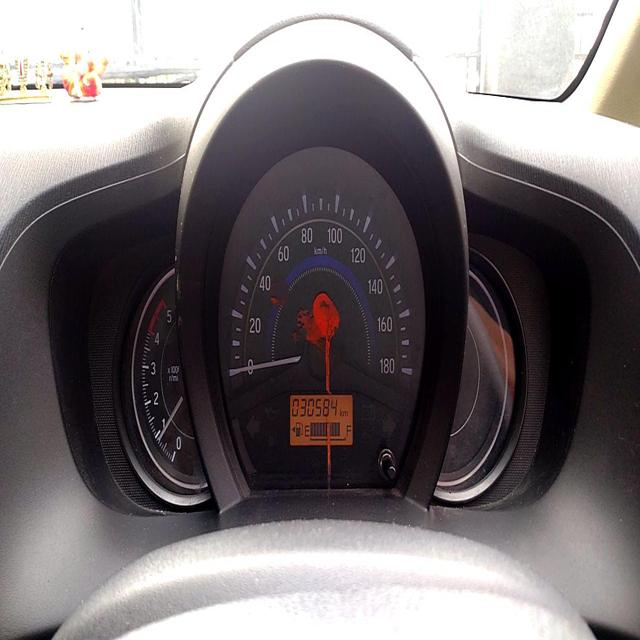odometer: (291, 395, 339, 419)
